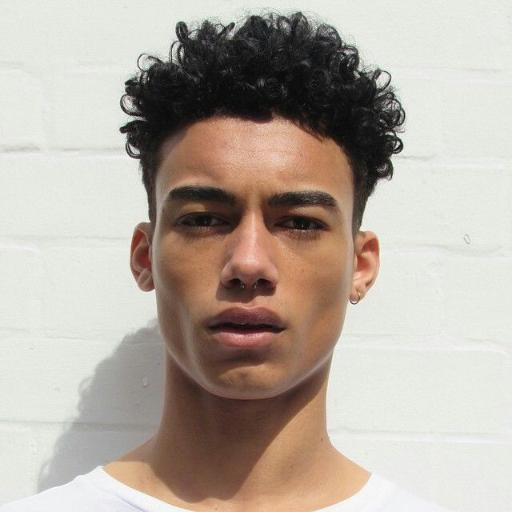left_eye: (274, 215, 332, 237)
left_lip_corner: (279, 323, 295, 338)
right_eye: (175, 213, 231, 233)
right_lip_corner: (199, 320, 219, 337)
